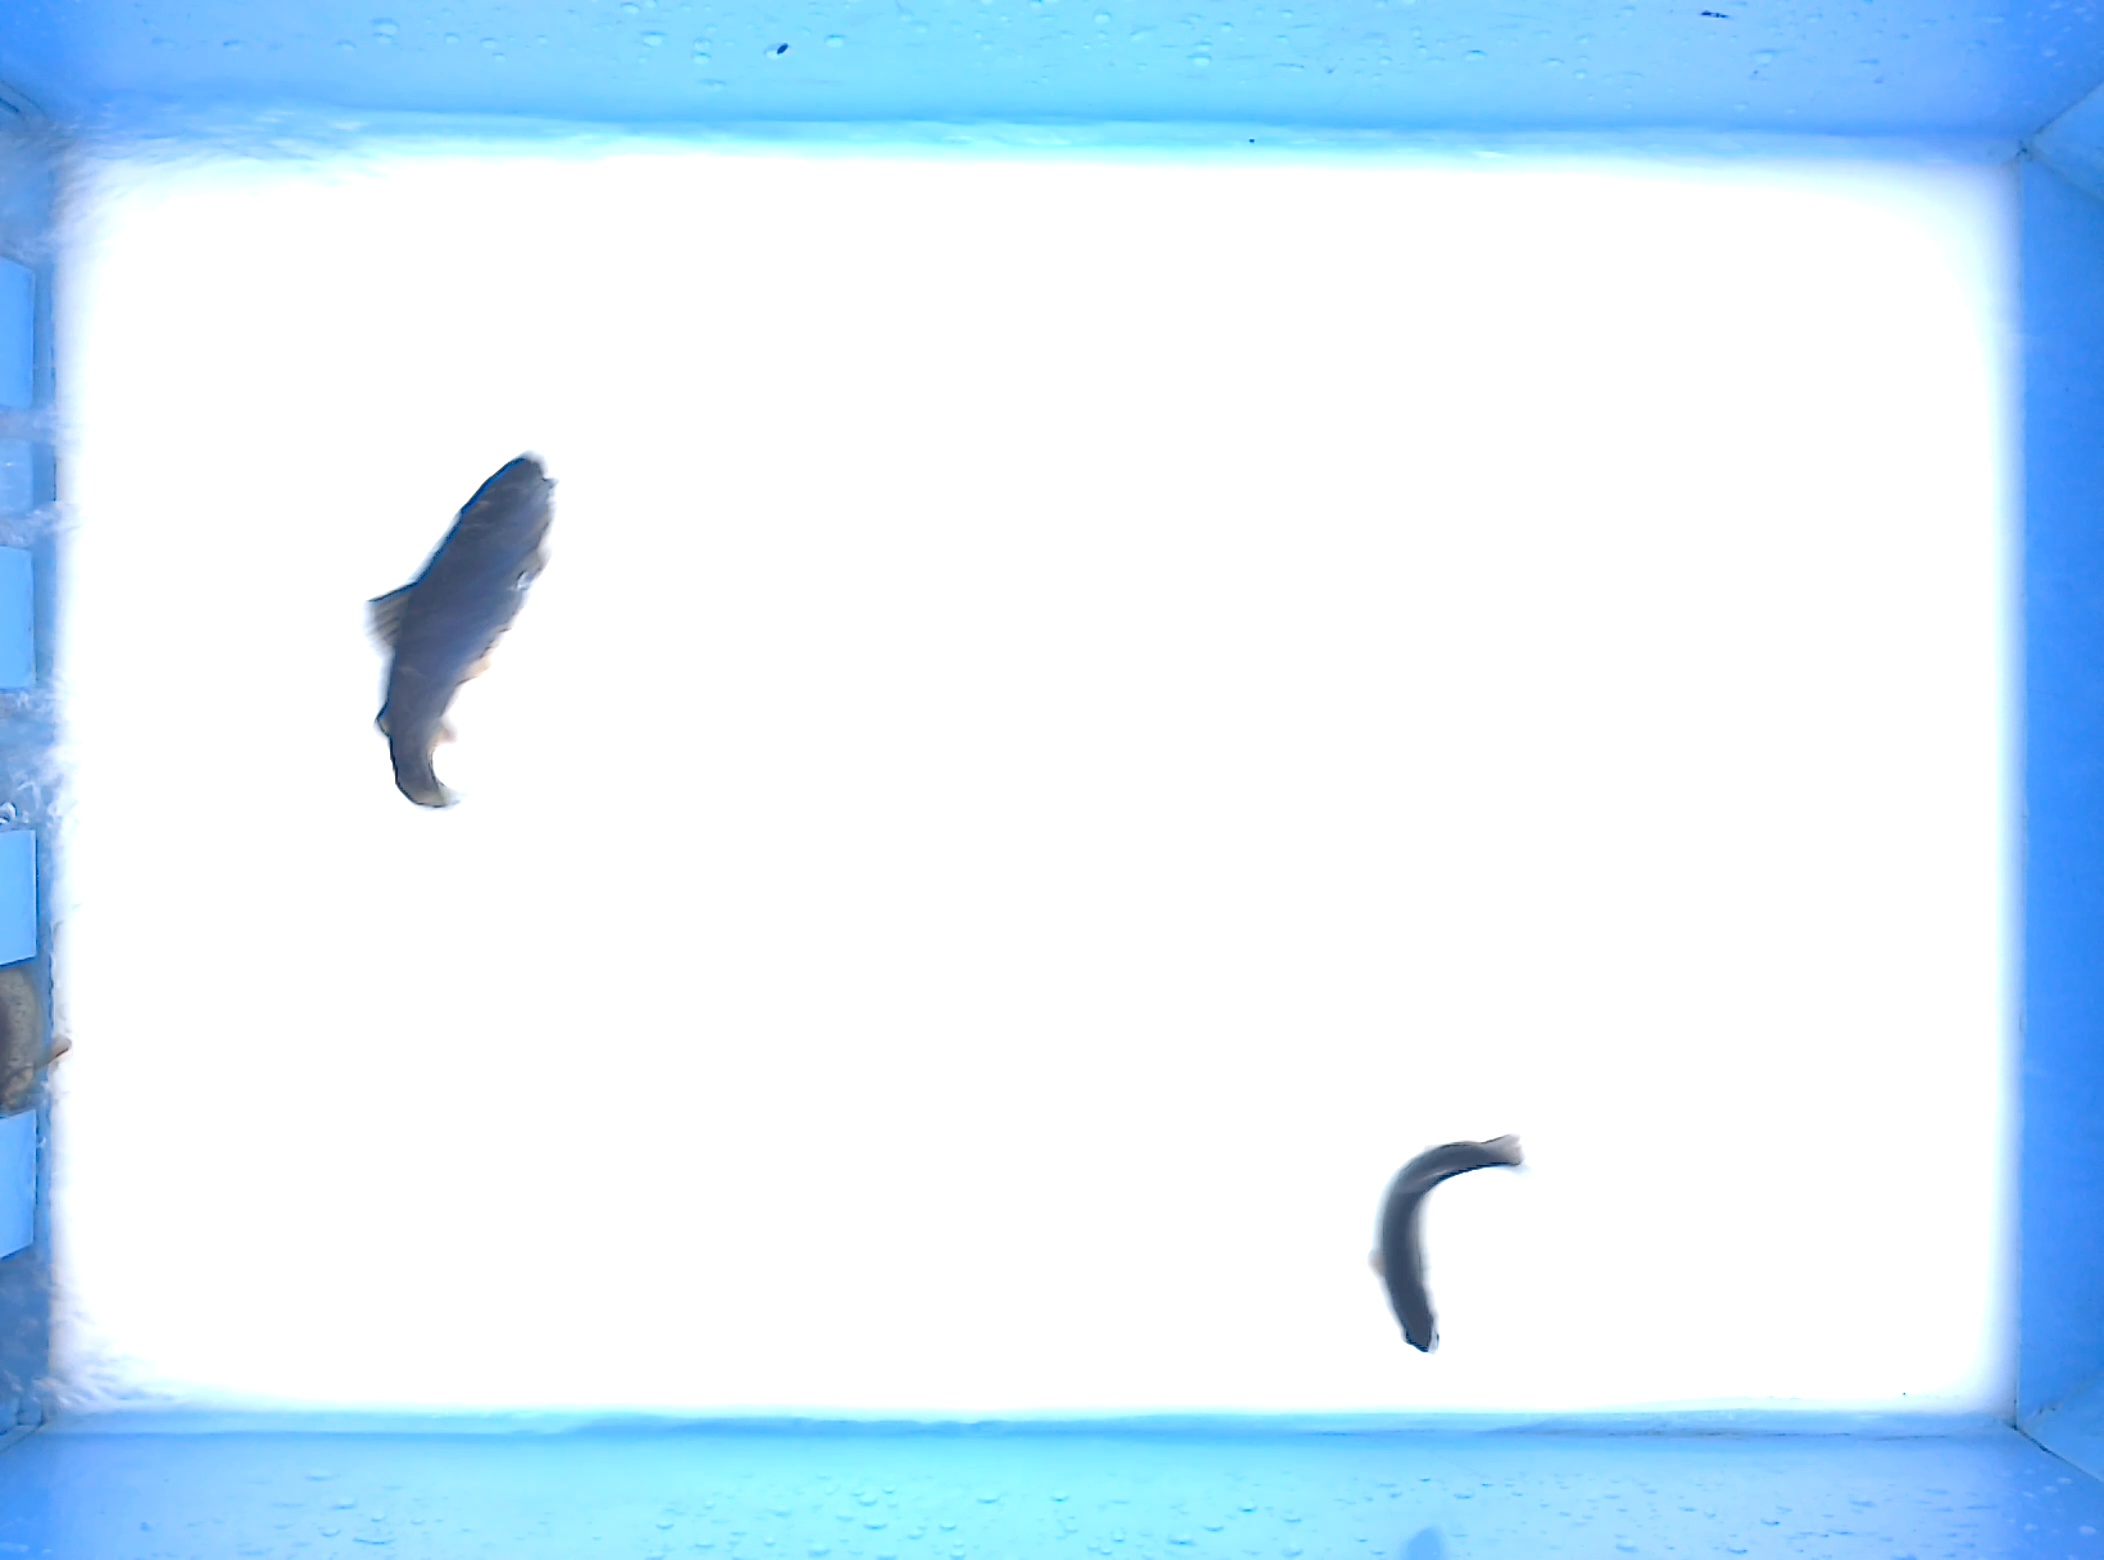fish: (360, 447, 565, 814), (1363, 1129, 1530, 1358)
